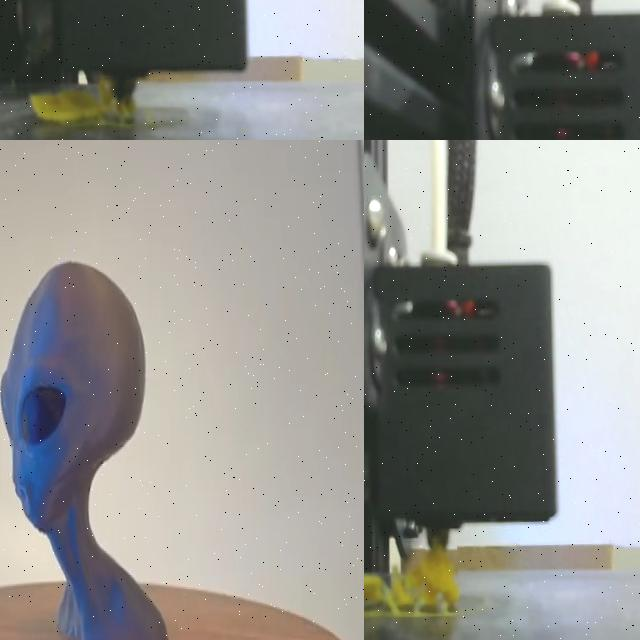spaghetti: (364, 540, 458, 617), (28, 77, 132, 125)
